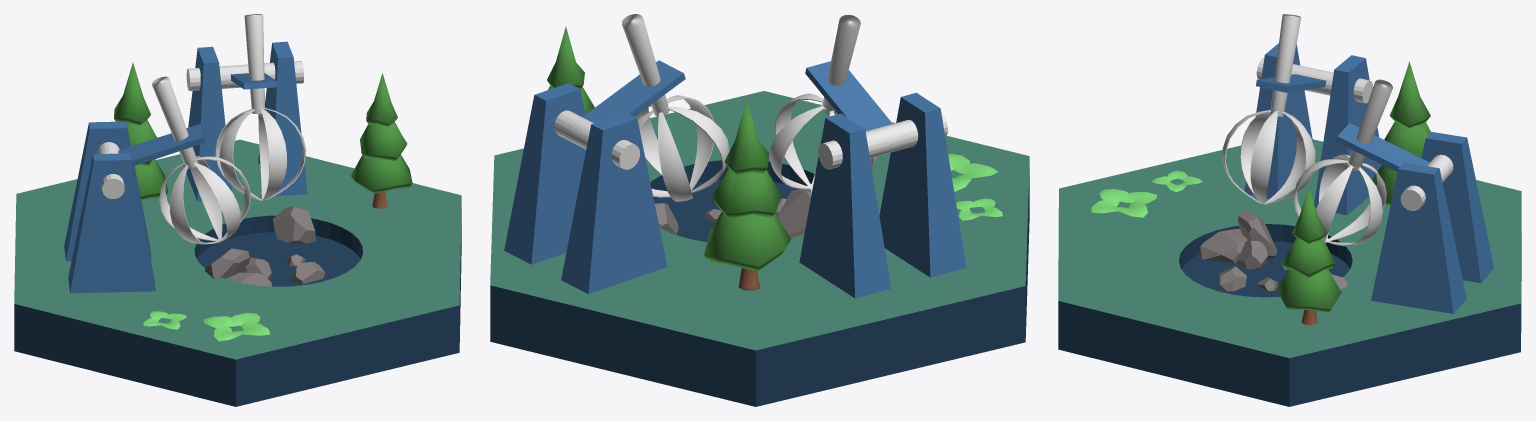
File: Macro - Mineral lvl 2 rev.fbx
3 views of the same model, side by side, from view 1: azimuth 30°, elevation 25°; view 2: azimuth 150°, elevation 25°; view 3: azimuth 270°, elevation 25° (orthographic). The views are drawn at different scales.
Visible parts, largest first — view 1: Cylinder.011, Cube.008, Tree_Spruce_tiny_01.001, Circle.003, Circle.002, Cube.004, Cube.005, Tree_Spruce_tiny_01.002, Cube.009, Rock Type2 02 mesh.002, Cylinder.005, Cube.007 (+8 smaller); view 2: Cylinder.011, Cube.005, Cube.009, Cube.008, Cube.004, Tree_Spruce_tiny_01.002, Circle.002, Cube.007, Circle.003, Cube.006, Cylinder.007, Cylinder.005 (+7 smaller); view 3: Cylinder.011, Cube.004, Cube.005, Tree_Spruce_tiny_01.001, Circle.003, Cube.009, Circle.002, Cube.008, Tree_Spruce_tiny_01.002, Rock Type2 02 mesh.002, Cube.006, Cylinder.006 (+7 smaller).
Part boxes in pixels (left/top/right/bottom): Cylinder.011: left=14, top=139, right=461, bottom=406; Cube.008: left=68, top=153, right=155, bottom=293; Tree_Spruce_tiny_01.001: left=350, top=73, right=412, bottom=208; Circle.003: left=159, top=156, right=250, bottom=244; Circle.002: left=215, top=108, right=306, bottom=200; Cube.004: left=258, top=41, right=307, bottom=196; Cube.005: left=183, top=46, right=232, bottom=201; Tree_Spruce_tiny_01.002: left=114, top=62, right=168, bottom=199; Cube.009: left=64, top=121, right=151, bottom=261; Rock Type2 02 mesh.002: left=205, top=248, right=271, bottom=286; Cylinder.005: left=244, top=14, right=265, bottom=113; Cube.007: left=118, top=123, right=205, bottom=166; Cylinder.011: left=490, top=91, right=1029, bottom=406; Cube.005: left=561, top=112, right=667, bottom=293; Cube.009: left=799, top=113, right=891, bottom=298; Cube.008: left=879, top=92, right=966, bottom=277; Cube.004: left=504, top=83, right=585, bottom=264; Tree_Spruce_tiny_01.002: left=704, top=98, right=790, bottom=290; Circle.002: left=635, top=95, right=729, bottom=201; Cube.007: left=805, top=61, right=892, bottom=131; Circle.003: left=769, top=93, right=876, bottom=193; Cube.006: left=582, top=60, right=685, bottom=123; Cylinder.007: left=818, top=113, right=947, bottom=169; Cylinder.005: left=622, top=14, right=669, bottom=116; Cylinder.011: left=1058, top=139, right=1521, bottom=406; Cube.004: left=1371, top=162, right=1466, bottom=313; Cube.005: left=1421, top=132, right=1494, bottom=283; Tree_Spruce_tiny_01.001: left=1276, top=187, right=1341, bottom=325; Circle.003: left=1222, top=109, right=1315, bottom=204; Cube.009: left=1314, top=55, right=1381, bottom=215; Circle.002: left=1293, top=154, right=1386, bottom=246; Cube.008: left=1244, top=43, right=1316, bottom=200; Tree_Spruce_tiny_01.002: left=1372, top=61, right=1430, bottom=206; Rock Type2 02 mesh.002: left=1200, top=209, right=1276, bottom=269; Cube.006: left=1335, top=123, right=1429, bottom=171; Cylinder.006: left=1270, top=14, right=1301, bottom=116.
Size of the model in its own units: 197 by 99.74 by 172.
